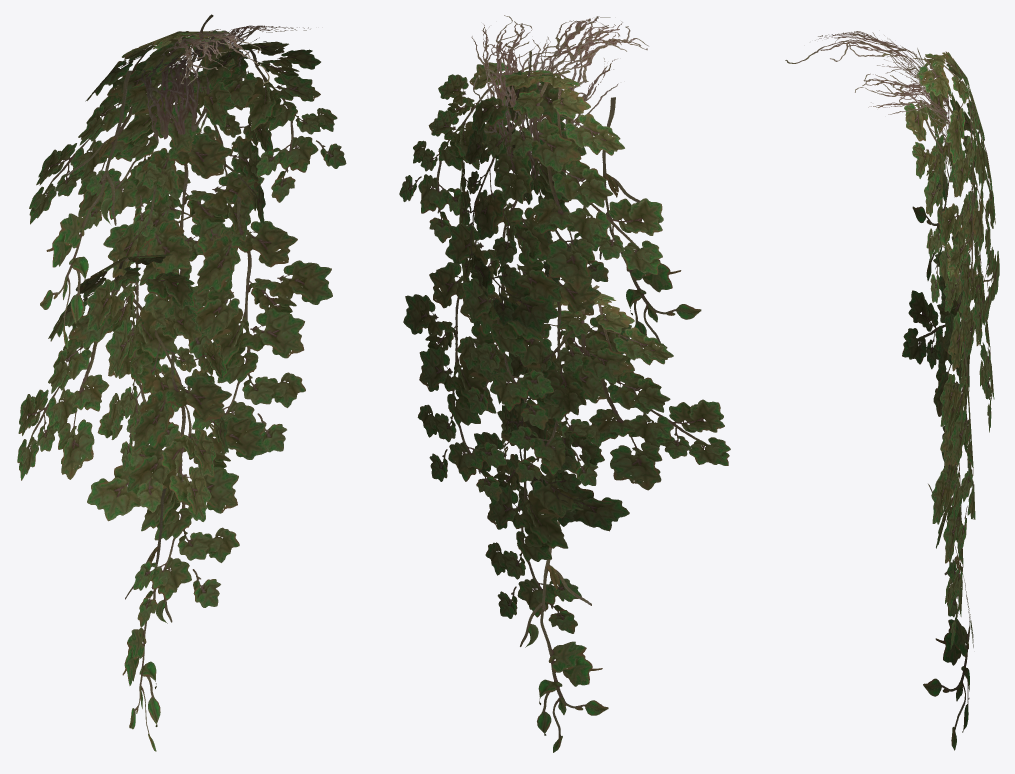
The model's file is SM_Fol_Ivy_Edge1.fbx.
3 views of the same model, side by side, from view 1: azimuth 30°, elevation 25°; view 2: azimuth 150°, elevation 25°; view 3: azimuth 270°, elevation 25° (orthographic). The views are drawn at different scales.
Visible parts, largest first — view 1: SM_Fol_Ivy_Edge1_LOD0; view 2: SM_Fol_Ivy_Edge1_LOD0; view 3: SM_Fol_Ivy_Edge1_LOD0.
Boxes of the visible parts, x1,y1,x2,y2 form: SM_Fol_Ivy_Edge1_LOD0: (17, 14, 346, 751); SM_Fol_Ivy_Edge1_LOD0: (399, 15, 730, 752); SM_Fol_Ivy_Edge1_LOD0: (785, 31, 999, 750).
Bounding box in the file's own units: 178 × 97.45 × 350.
Materials: 1 (1 with a texture image).
